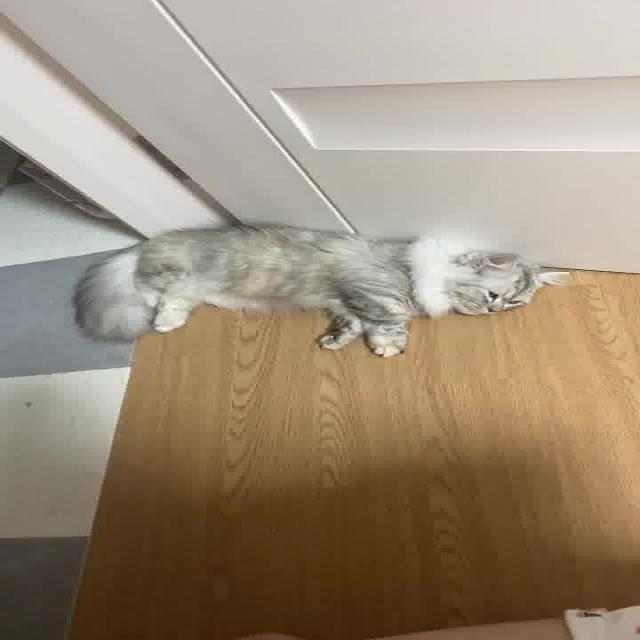cat: (36, 204, 600, 367)
